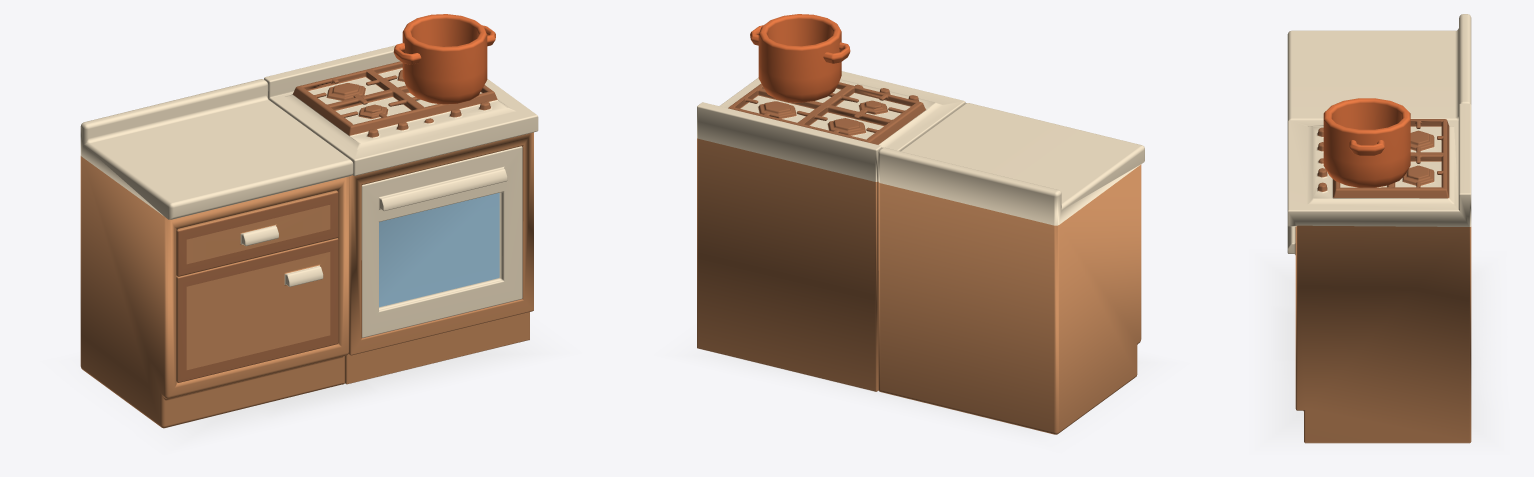
File: interest_tea_v1_draco_webp.glb
3 renders of one model, left to right at view 1: azimuth 30°, elevation 25°; view 2: azimuth 150°, elevation 25°; view 3: azimuth 270°, elevation 25°, orthographic. The views are drawn at different scales.
Visible parts, largest first — view 1: kitchen_counter_cabinet, kitchen_counter_stove, kitchen_counter_oven_door, kitchen_counter_cabinet_door, shadow_kitchen_counter, kitchen_counter_drawer, cooking_pot_body; view 2: kitchen_counter_cabinet, kitchen_counter_stove, cooking_pot_body, shadow_kitchen_counter; view 3: kitchen_counter_stove, kitchen_counter_cabinet, shadow_kitchen_counter, cooking_pot_body, shadow_cafe_stool.
Boxes of the visible parts, left/top/right/bottom form: kitchen_counter_cabinet: left=80, top=79, right=353, bottom=428; kitchen_counter_stove: left=264, top=45, right=538, bottom=384; kitchen_counter_oven_door: left=361, top=146, right=522, bottom=337; kitchen_counter_cabinet_door: left=176, top=238, right=338, bottom=382; shadow_kitchen_counter: left=78, top=334, right=555, bottom=445; kitchen_counter_drawer: left=176, top=190, right=338, bottom=276; cooking_pot_body: left=393, top=14, right=495, bottom=104; kitchen_counter_cabinet: left=878, top=103, right=1144, bottom=434; kitchen_counter_stove: left=697, top=71, right=965, bottom=391; cooking_pot_body: left=750, top=14, right=850, bottom=102; shadow_kitchen_counter: left=679, top=343, right=1162, bottom=440; kitchen_counter_stove: left=1287, top=103, right=1471, bottom=443; kitchen_counter_cabinet: left=1287, top=14, right=1471, bottom=120; shadow_kitchen_counter: left=1262, top=259, right=1496, bottom=444; cooking_pot_body: left=1323, top=98, right=1410, bottom=187; shadow_cafe_stool: left=1281, top=311, right=1295, bottom=360.
Size of the model in its own units: 1.53 by 0.9703 by 0.814.
8 materials, 1 textured.
